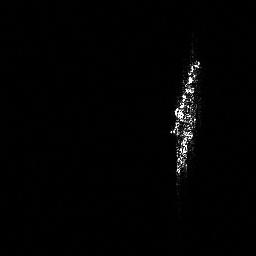ship: (169, 41, 205, 193)
